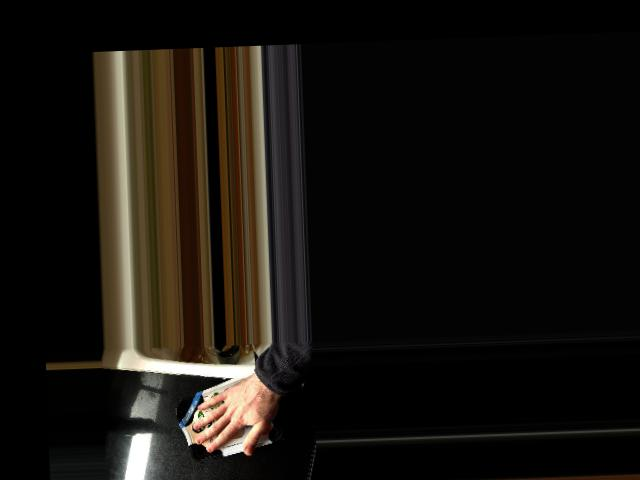cheese: (172, 366, 285, 465)
